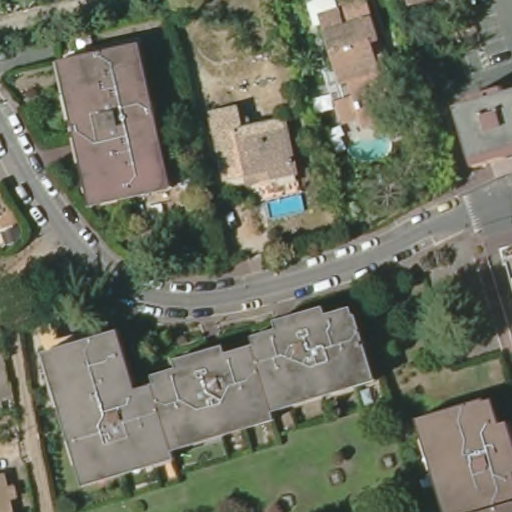pool: (258, 189, 308, 221), (344, 134, 396, 162)
